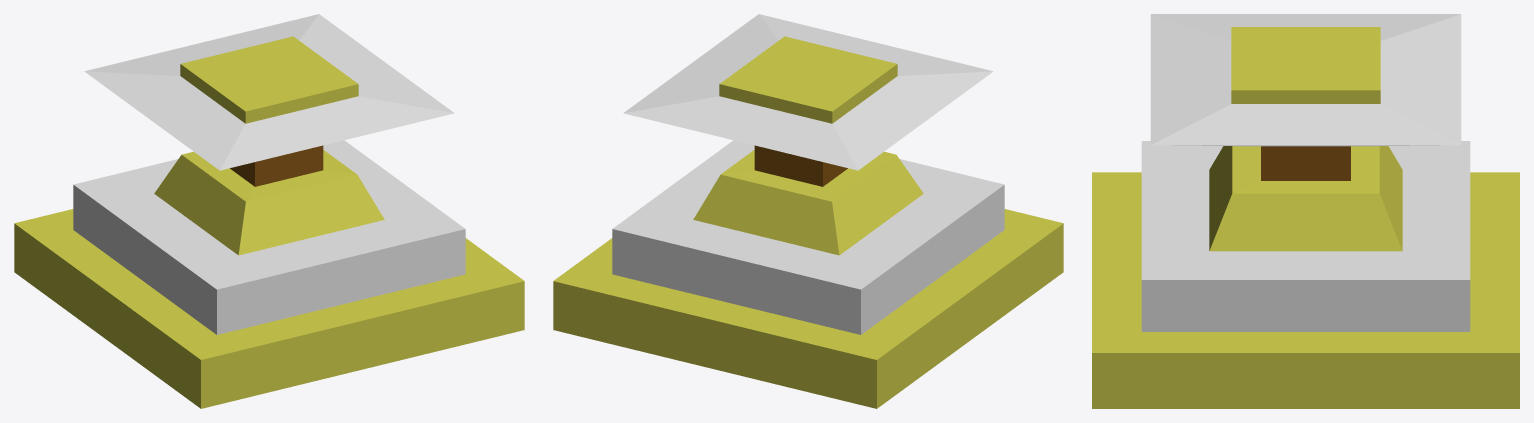
Rendered from temple1.fbx.
3 renders of one model, left to right at view 1: azimuth 30°, elevation 25°; view 2: azimuth 150°, elevation 25°; view 3: azimuth 270°, elevation 25°, orthographic. The views are drawn at different scales.
Parts seen in each view (by area): view 1: Cube; view 2: Cube; view 3: Cube.
Boxes of the visible parts, x1,y1,x2,y2 form: Cube: (14,14,524,408); Cube: (553,14,1063,408); Cube: (1092,14,1519,408).
Bounding box in the file's own units: 738 × 495 × 738.
